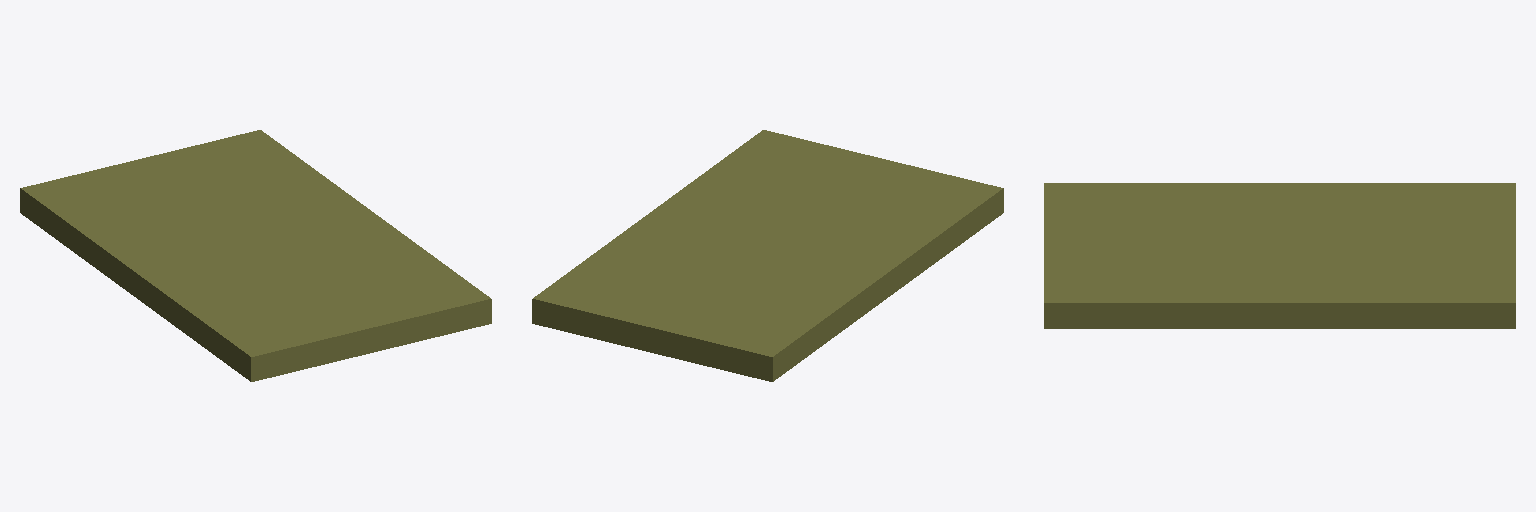
robot.urdf — laptop:
<robot name="laptop">


<material name="blue">
    <color rgba="0.9 0.5 0.8 1"/>
  </material>
  <material name="black">
    <color rgba="0 0 0 1"/>
  </material>
  <material name="white">
    <color rgba="1 1 1 1"/>
  </material>

<link name="base">
        <inertial>
         <origin xyz ="0 0 0" rpy="0 0 0"/>
         <mass value="20"/>
         <inertia
           ixx="1.2"
           iyy="5.5"
           izz="6.0"
           ixy="0.0"
           ixz="-0.2"
           iyz="-0.01" />
                   
        </inertial>


        <visual>  
         <origin xyz ="0 0 0" rpy="0 0 0"/>
        <geometry>
          <box size="0.3 0.5 0.03"/>
        </geometry>
        <material name="black">
          <color rgba="0.5 0.5 0.3 1.0"/>
        </material>
      </visual> 
 
      <collision>
            <origin xyz="0 0 0" rpy="0 0 0"/>
            <geometry>
                <box size="0.3 0.5 0.03"/>
            </geometry>
      </collision> 
   </link>





</robot>

--- Facts derived from the render (not from the file) ---
Views: 3 orthographic renders of the robot side by side, from view 1: azimuth 30°, elevation 25°; view 2: azimuth 150°, elevation 25°; view 3: azimuth 270°, elevation 25°.
Model laptop with 1 links and 0 joints (none), rooted at base, posed every joint at zero.
Visible links, largest first — view 1: base; view 2: base; view 3: base.
Link boxes in pixels (x1=…): base: x1=20, y1=130, x2=491, y2=381; base: x1=532, y1=130, x2=1003, y2=381; base: x1=1044, y1=183, x2=1515, y2=328.
Bounding box of the posed robot: 0.3 × 0.5 × 0.03 m (x, y, z).
Geometry: primitives only (box / cylinder / sphere), no mesh files.